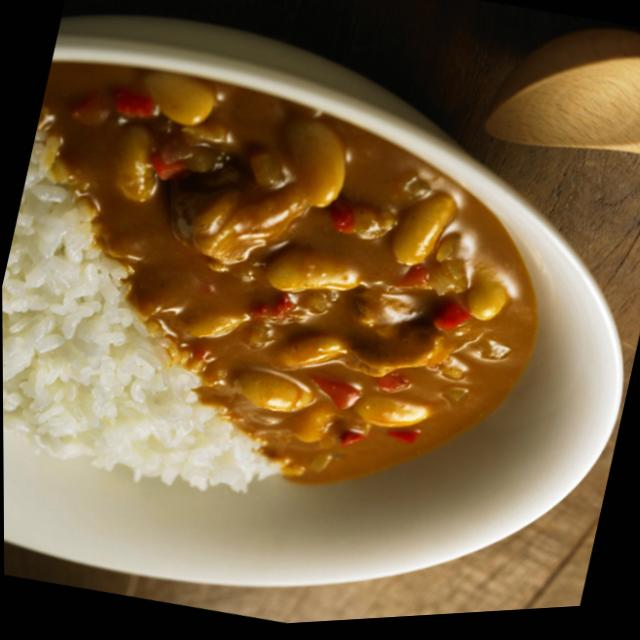牛肉菜式: (0, 3, 640, 640)
